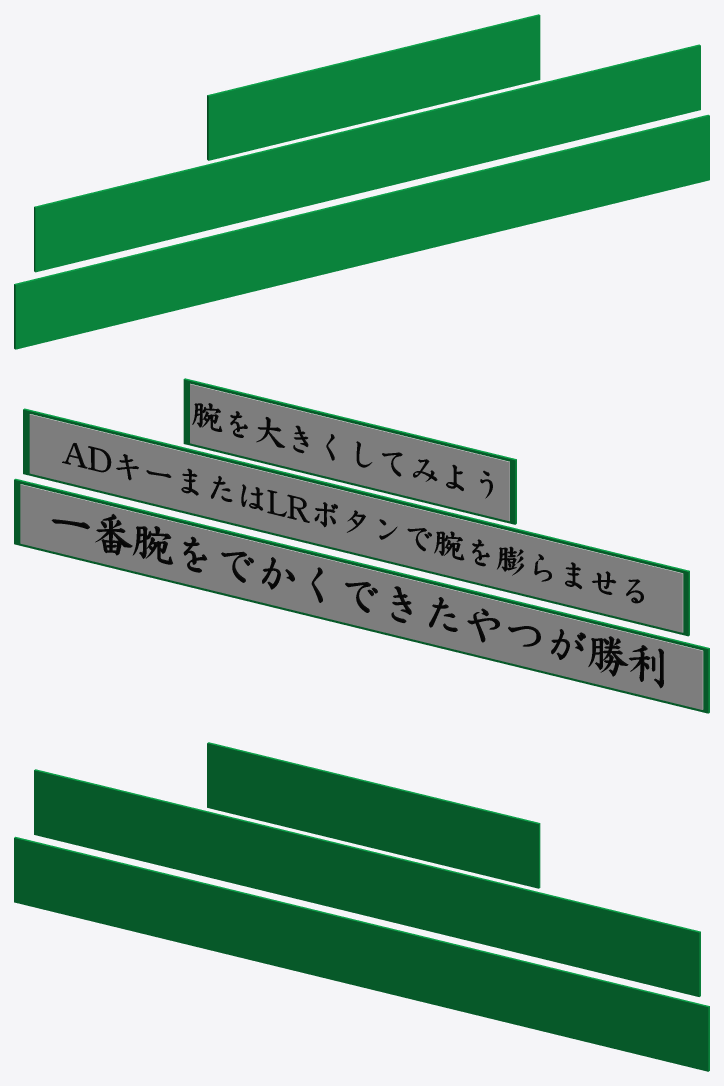
3 views of the same model, one above another, from view 1: azimuth 30°, elevation 25°; view 2: azimuth 150°, elevation 25°; view 3: azimuth 330°, elevation 25° (orthographic).
Parts seen in each view (by area): view 1: 立方体.010, 立方体.009, 立方体.004; view 2: 立方体.011, テキスト.004, 立方体.010, 立方体.009, 立方体.004; view 3: 立方体.010, 立方体.009, 立方体.004.
Part boxes in pixels (x1,y1,x2,y2): 立方体.010: (14,114,709,349); 立方体.009: (34,44,700,272); 立方体.004: (207,14,540,160); 立方体.011: (20,383,703,709); テキスト.004: (51,403,663,688); 立方体.010: (14,478,709,713); 立方体.009: (23,408,689,636); 立方体.004: (183,378,516,524); 立方体.010: (14,836,709,1071); 立方体.009: (34,769,700,996); 立方体.004: (207,742,540,888).
Size of the model in its own units: 22.51 by 6.39 by 0.1936.
9 materials, 9 textured.
